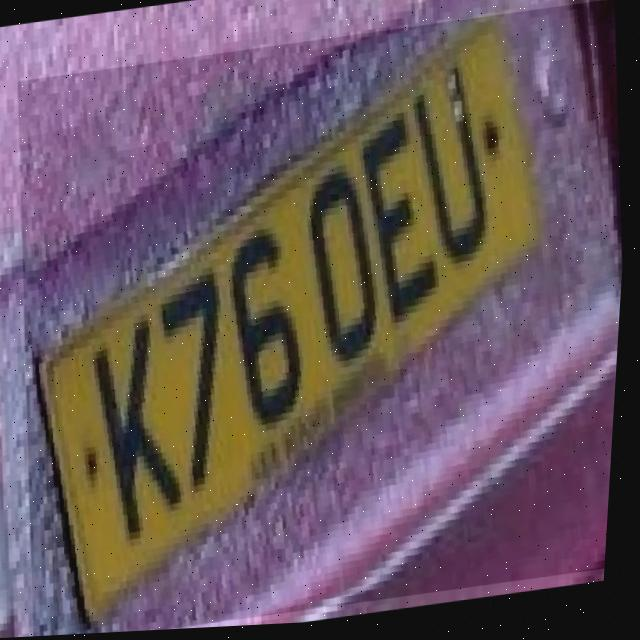LicensePlate: (0, 4, 639, 639)
